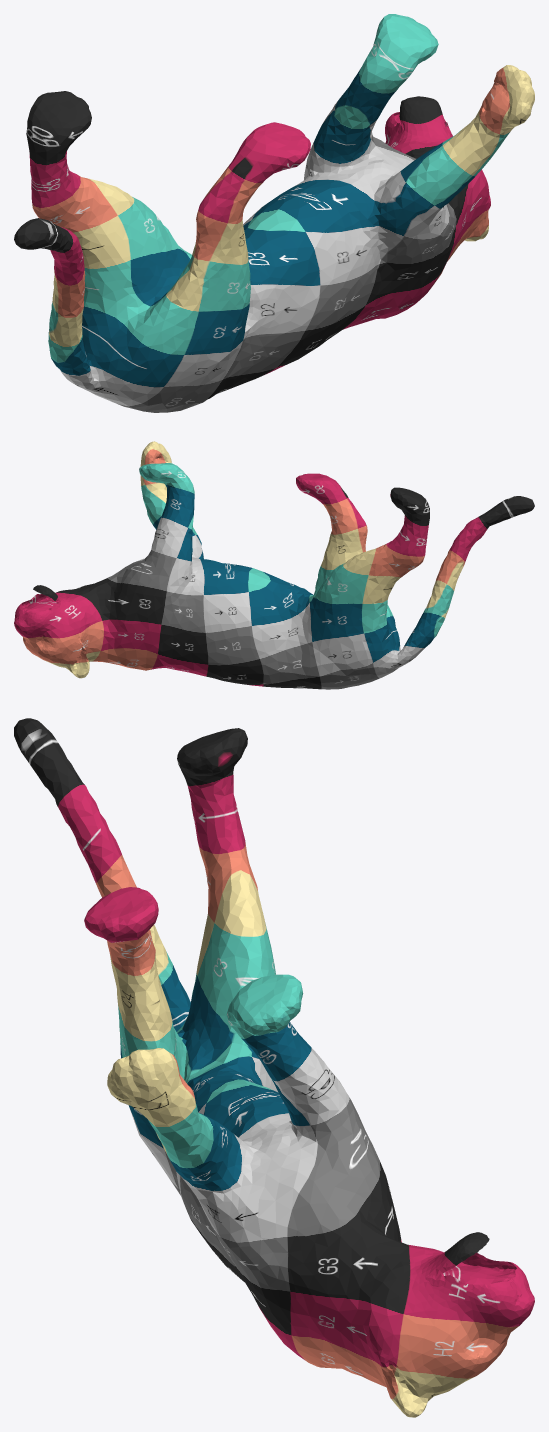
Rendered from cougar_01-cougar_04.obj.
3 renders of one model, top to bottom at view 1: azimuth 30°, elevation 25°; view 2: azimuth 150°, elevation 25°; view 3: azimuth 270°, elevation 25°, orthographic. The views are drawn at different scales.
Parts seen in each view (by area): view 1: cougar_01-cougar_04_export; view 2: cougar_01-cougar_04_export; view 3: cougar_01-cougar_04_export.
Part boxes in pixels (<box>): cougar_01-cougar_04_export: <box>14,14,534,412</box>; cougar_01-cougar_04_export: <box>14,441,534,689</box>; cougar_01-cougar_04_export: <box>14,718,534,1417</box>.
Size of the model in its own units: 1.06 by 0.5502 by 0.6287.
